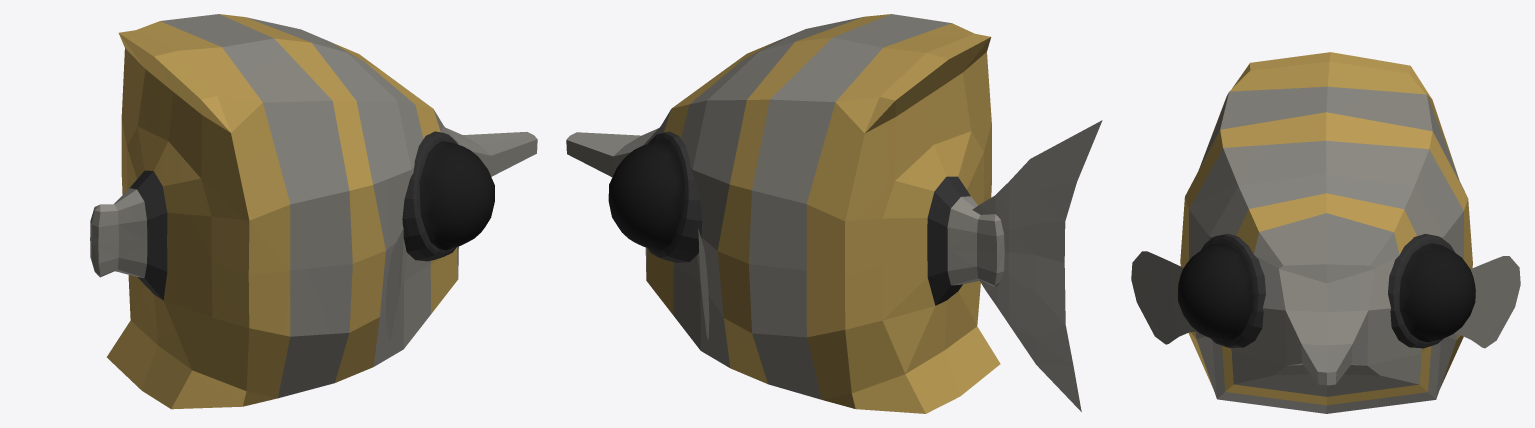
Rendered from fish_butterfly.glb.
3 renders of one model, left to right at view 1: azimuth 30°, elevation 25°; view 2: azimuth 150°, elevation 25°; view 3: azimuth 270°, elevation 25°, orthographic. The views are drawn at different scales.
Visible parts, largest first — view 1: Butterflyfish; view 2: Butterflyfish; view 3: Butterflyfish.
Boxes of the visible parts, left/top/right/bottom form: Butterflyfish: left=90, top=14, right=537, bottom=409; Butterflyfish: left=566, top=14, right=1102, bottom=413; Butterflyfish: left=1131, top=52, right=1520, bottom=413.
Size of the model in its own units: 1 by 0.6018 by 0.7065.
